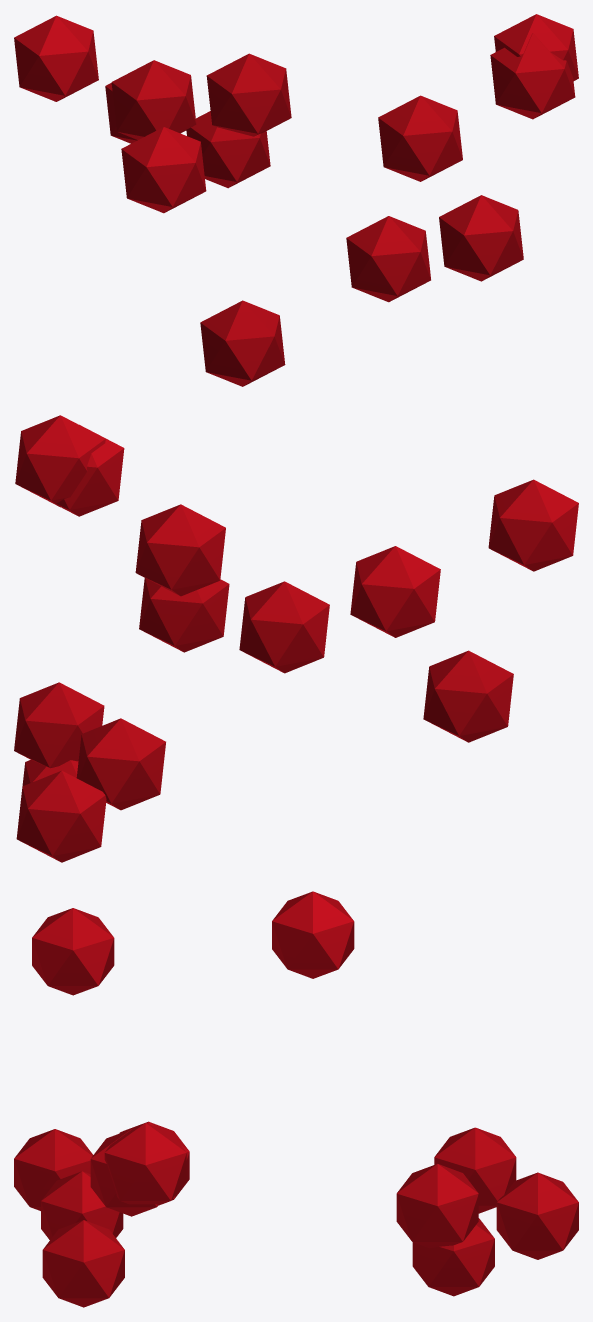
Rendered from berry.glb.
3 renders of one model, top to bottom at view 1: azimuth 30°, elevation 25°; view 2: azimuth 150°, elevation 25°; view 3: azimuth 270°, elevation 25°, orthographic. The views are drawn at different scales.
Visible parts, largest first — view 1: berry; view 2: berry; view 3: berry.
Part boxes in pixels (x1,y1,x2,y2): berry: (14,14,578,386); berry: (14,415,578,862); berry: (14,891,578,1307).
Size of the model in its own units: 0.4082 by 0.2365 by 0.4091.
